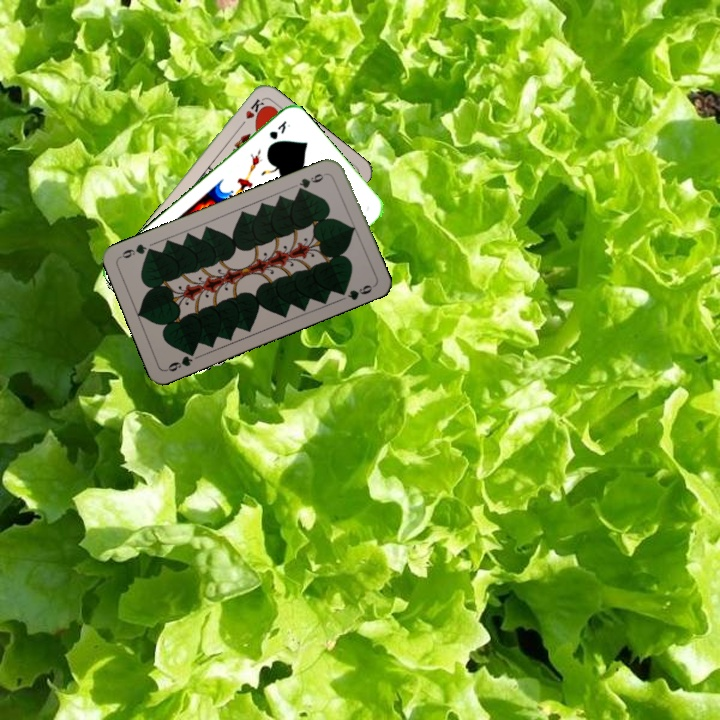G9: (163, 346, 198, 374), (294, 169, 331, 194)
GK: (265, 117, 293, 142)
HK: (236, 95, 268, 131)
